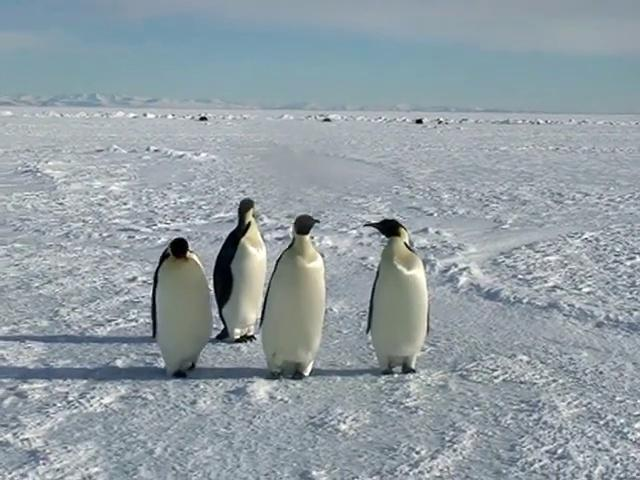animal: (366, 219, 428, 373)
